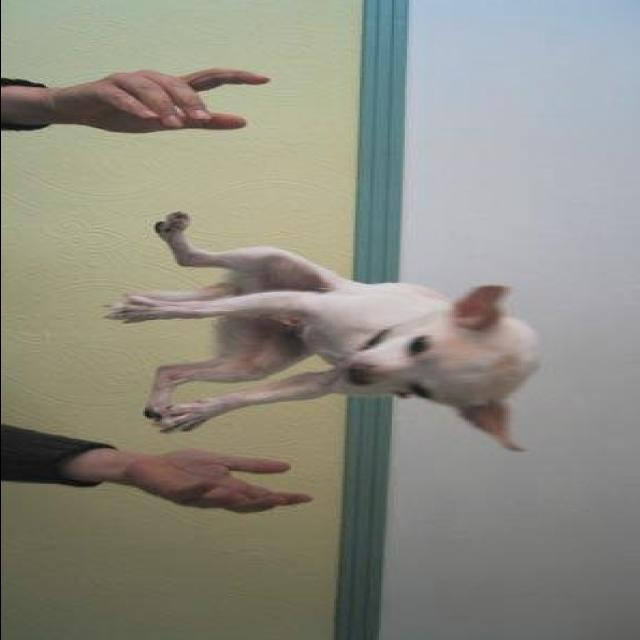chihuahua: (103, 211, 548, 458)
